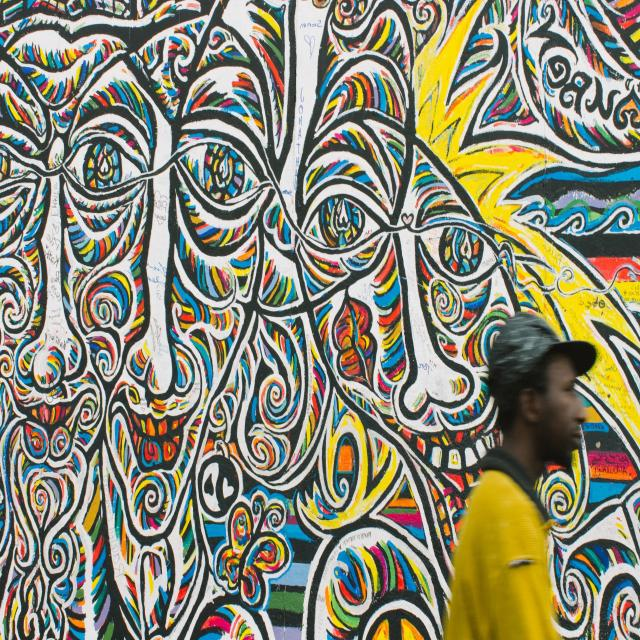adult: (447, 322, 586, 640)
